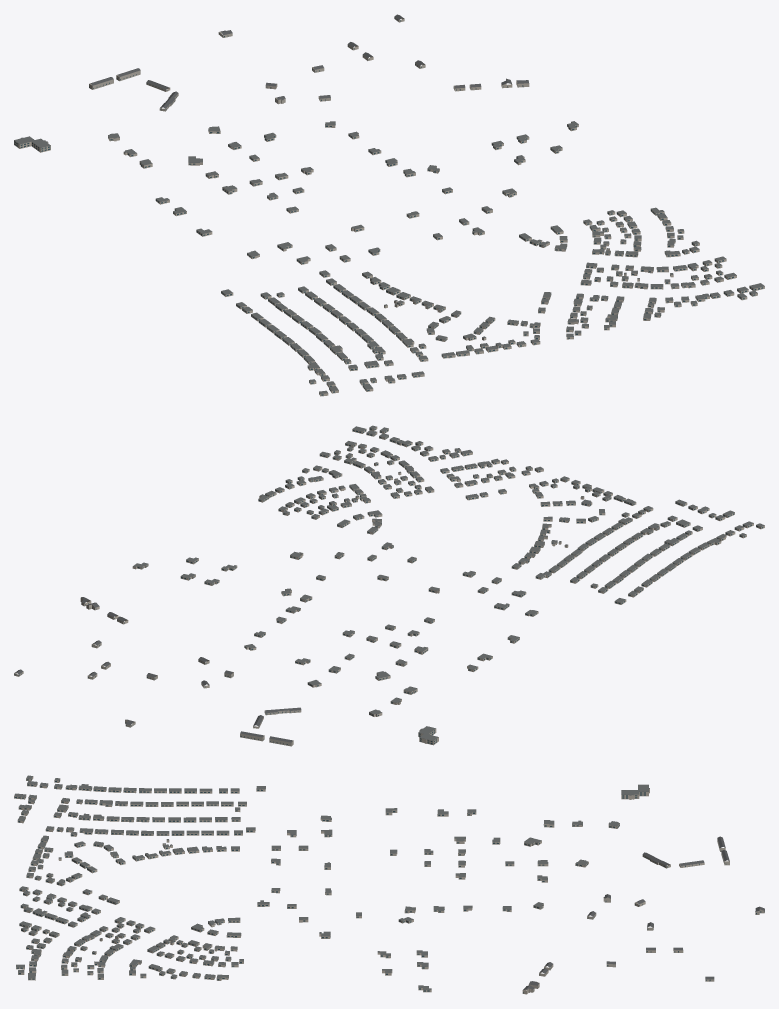
The picture shows the model from 3 angles, top to bottom: view 1: azimuth 30°, elevation 25°; view 2: azimuth 150°, elevation 25°; view 3: azimuth 270°, elevation 25°; orthographic projection. The views are drawn at different scales.
Visible parts, largest first — view 1: Buildings (1, -2) Roof membrane, Buildings (1, -2) Masonry brick, Buildings (1, -2) Architectural tinted glass, Buildings (1, -2) Metal coping, Buildings (1, -2) Roof shingles; view 2: Buildings (1, -2) Masonry brick, Buildings (1, -2) Roof membrane, Buildings (1, -2) Architectural tinted glass, Buildings (1, -2) Metal coping, Buildings (1, -2) Roof shingles, Buildings (1, -2) House siding; view 3: Buildings (1, -2) Roof membrane, Buildings (1, -2) Masonry brick, Buildings (1, -2) Architectural tinted glass, Buildings (1, -2) Metal coping, Buildings (1, -2) Roof shingles.
Boxes of the visible parts, box(x1,y1,x2,y2) form: Buildings (1, -2) Roof membrane: box(14, 121, 764, 393); Buildings (1, -2) Masonry brick: box(14, 44, 764, 396); Buildings (1, -2) Architectural tinted glass: box(14, 17, 763, 395); Buildings (1, -2) Metal coping: box(14, 121, 760, 393); Buildings (1, -2) Roof shingles: box(90, 14, 528, 108); Buildings (1, -2) Masonry brick: box(80, 427, 764, 745); Buildings (1, -2) Roof membrane: box(133, 425, 764, 740); Buildings (1, -2) Architectural tinted glass: box(14, 428, 763, 744); Buildings (1, -2) Metal coping: box(133, 427, 764, 739); Buildings (1, -2) Roof shingles: box(14, 597, 301, 742); Buildings (1, -2) House siding: box(14, 642, 301, 746); Buildings (1, -2) Roof membrane: box(14, 775, 649, 989); Buildings (1, -2) Masonry brick: box(14, 776, 704, 994); Buildings (1, -2) Architectural tinted glass: box(14, 779, 764, 993); Buildings (1, -2) Metal coping: box(16, 775, 648, 987); Buildings (1, -2) Roof shingles: box(523, 836, 764, 989).
Bounding box in the file's own units: 685 × 10.07 × 1006.
